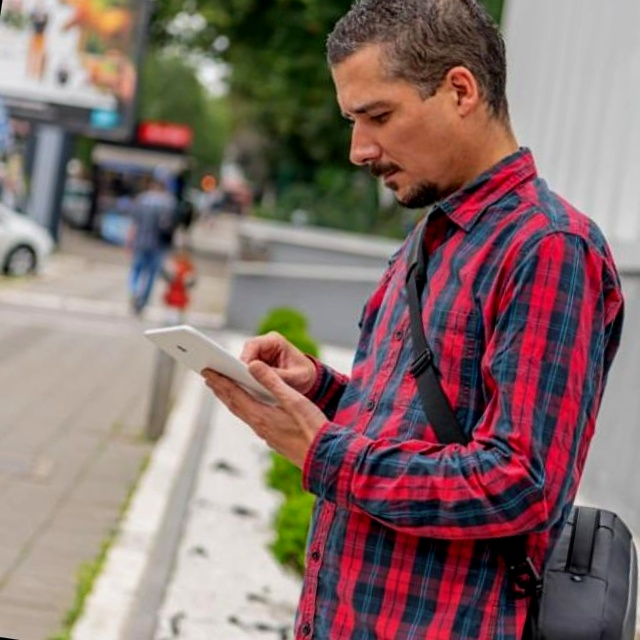Sin_Casco_Mascarrilla: (306, 0, 521, 221)
Sin_Chaleco: (297, 177, 635, 640)
